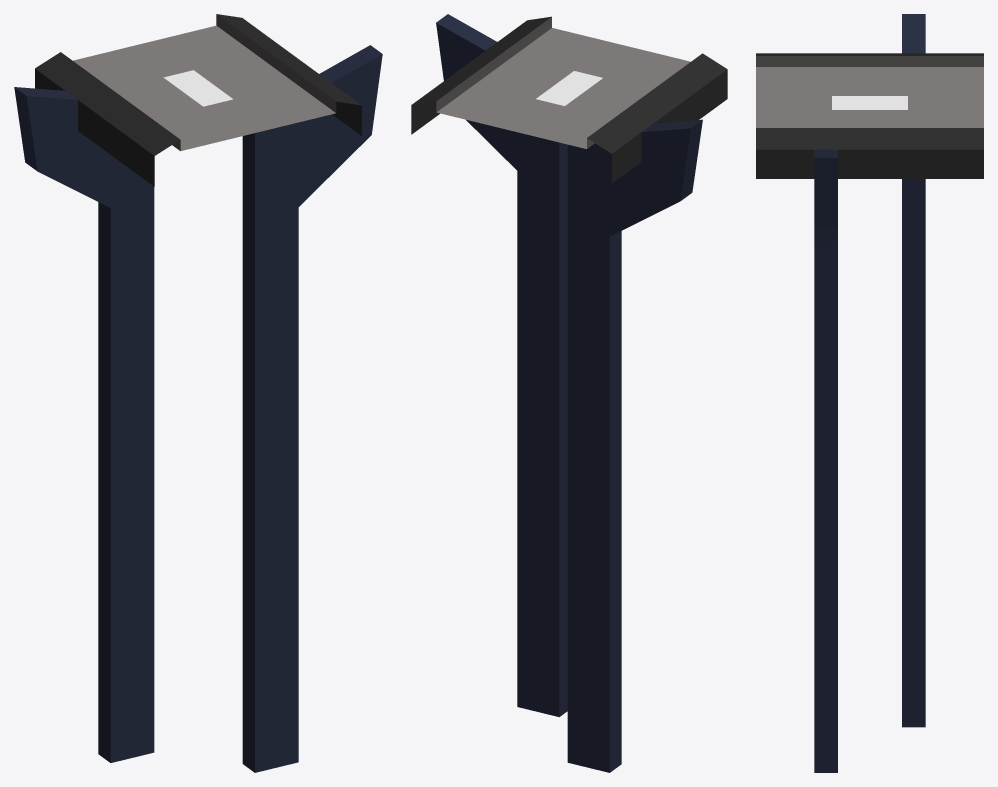
File: road_type_03.fbx
3 views of the same model, side by side, from view 1: azimuth 30°, elevation 25°; view 2: azimuth 150°, elevation 25°; view 3: azimuth 270°, elevation 25° (orthographic). The views are drawn at different scales.
Visible parts, largest first — view 1: road_type_03; view 2: road_type_03; view 3: road_type_03.
Boxes of the visible parts, left/top/right/bottom form: road_type_03: left=14, top=14, right=382, bottom=772; road_type_03: left=411, top=14, right=727, bottom=772; road_type_03: left=756, top=14, right=983, bottom=772.
Bounding box in the file's own units: 499 × 1057 × 334.
1 material, 1 textured.
